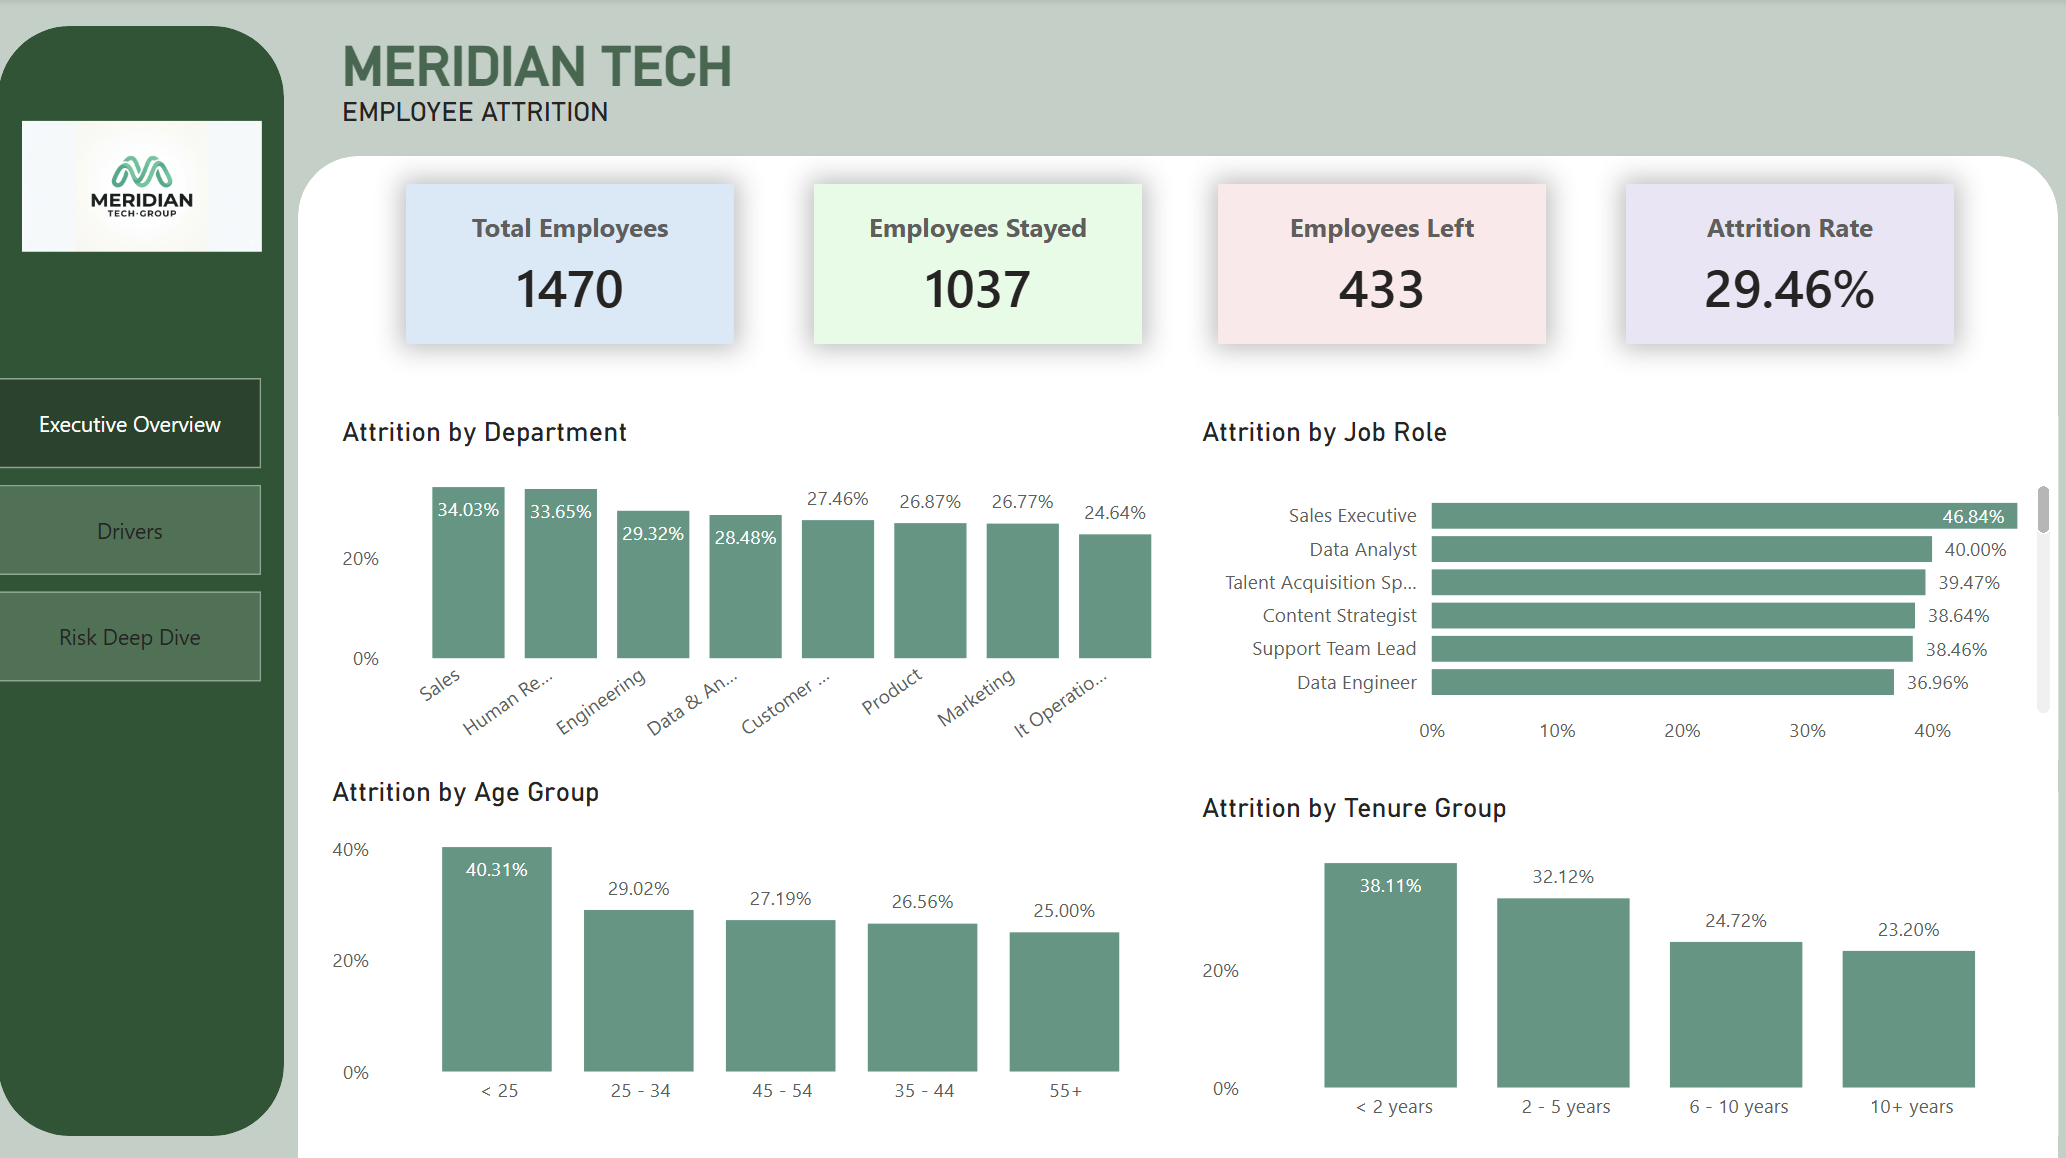

This screenshot's page, from the dashboard's own definition file:
{"tool":"powerbi","page":{"name":"Executive Overview","canvas":[1280,720],"ordinal":0},"visuals":[{"type":"shape","box":[0,17.3,177,687],"z":0},{"type":"image","box":[14.9,70.6,148.5,91.6],"z":1000},{"type":"shape","box":[185.7,97.8,1089.4,622.7],"z":2000},{"type":"pageNavigator","box":[0,235.2,163.4,190.6],"z":3000},{"type":"cardVisual","fields":{"Data":["meridian_tech employee_attrition_clean.Total Employees"]},"box":[251.9,115.7,203,99],"z":4000},{"type":"cardVisual","fields":{"Data":["meridian_tech employee_attrition_clean.Employees Stayed"]},"box":[504.4,115.7,203,99],"z":5000},{"type":"cardVisual","fields":{"Data":["meridian_tech employee_attrition_clean.Employees Left"]},"box":[754.5,115.7,203,99],"z":6000},{"type":"cardVisual","fields":{"Data":["meridian_tech employee_attrition_clean.Attrition Rate"]},"box":[1007,115.7,203,99],"z":7000},{"type":"textbox","box":[208,17.3,261.2,70.6],"z":8000},{"type":"clusteredColumnChart","title":"Attrition by Department","fields":{"Category":["meridian_tech employee_attrition_clean.Department"],"Y":["meridian_tech employee_attrition_clean.Attrition Rate"]},"box":[208,258.7,534.8,212.9],"z":9000},{"type":"clusteredColumnChart","title":"Attrition by Age Group","fields":{"Category":["meridian_tech employee_attrition_clean.Age Group"],"Y":["meridian_tech employee_attrition_clean.Attrition Rate"]},"box":[201.8,481.5,534.8,212.9],"z":10000},{"type":"clusteredBarChart","title":"Attrition by Job Role","fields":{"Category":["meridian_tech employee_attrition_clean.JobRole"],"Y":["meridian_tech employee_attrition_clean.Attrition Rate"]},"box":[740.3,258.7,534.8,212.9],"z":11000},{"type":"clusteredColumnChart","title":"Attrition by Tenure Group","fields":{"Category":["meridian_tech employee_attrition_clean.Tenure Group"],"Y":["meridian_tech employee_attrition_clean.Attrition Rate"]},"box":[740.3,491.5,534.8,212.9],"z":12000}]}

Visuals, with their boxes in screenshot pixels (x1, y1, x2, y2), scaled from the page's 1280x720 canvas onto the 2066x1158 screenshot:
shape: 0:28:286:1133
image: 24:114:264:261
shape: 300:157:2058:1157
pageNavigator: 0:378:264:685
cardVisual - meridian_tech employee_attrition_clean.Total Employees: 407:186:734:345
cardVisual - meridian_tech employee_attrition_clean.Employees Stayed: 814:186:1142:345
cardVisual - meridian_tech employee_attrition_clean.Employees Left: 1218:186:1545:345
cardVisual - meridian_tech employee_attrition_clean.Attrition Rate: 1625:186:1953:345
textbox: 336:28:757:141
"Attrition by Department" clusteredColumnChart: 336:416:1199:758
"Attrition by Age Group" clusteredColumnChart: 326:774:1189:1117
"Attrition by Job Role" clusteredBarChart: 1195:416:2058:758
"Attrition by Tenure Group" clusteredColumnChart: 1195:790:2058:1133
